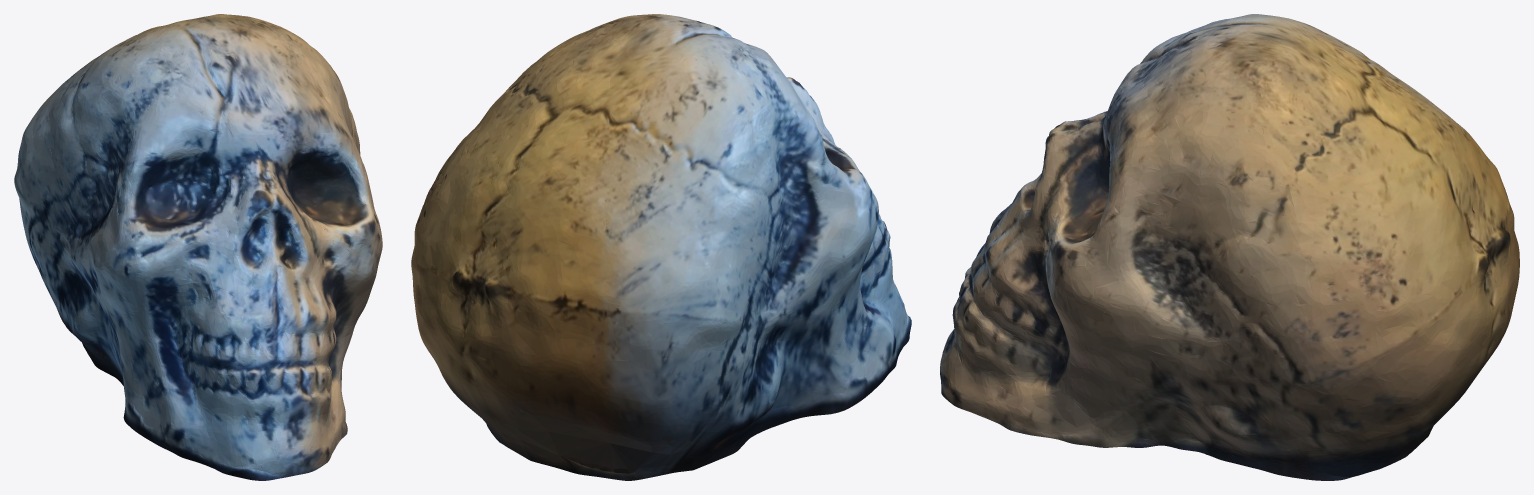
The model's file is caveira-sem-base.glb.
The picture shows the model from 3 angles, left to right: view 1: azimuth 30°, elevation 25°; view 2: azimuth 150°, elevation 25°; view 3: azimuth 270°, elevation 25°; orthographic projection. The views are drawn at different scales.
Parts seen in each view (by area): view 1: Caveira · sem base · 10 cm; view 2: Caveira · sem base · 10 cm; view 3: Caveira · sem base · 10 cm.
Part boxes in pixels (box(x1,y1,x2,y2)): Caveira · sem base · 10 cm: box(14, 14, 382, 480); Caveira · sem base · 10 cm: box(411, 14, 911, 480); Caveira · sem base · 10 cm: box(940, 14, 1519, 480).
Bounding box in the file's own units: 0.0974 × 0.1 × 0.1371.
Materials: 1 (1 with a texture image).
